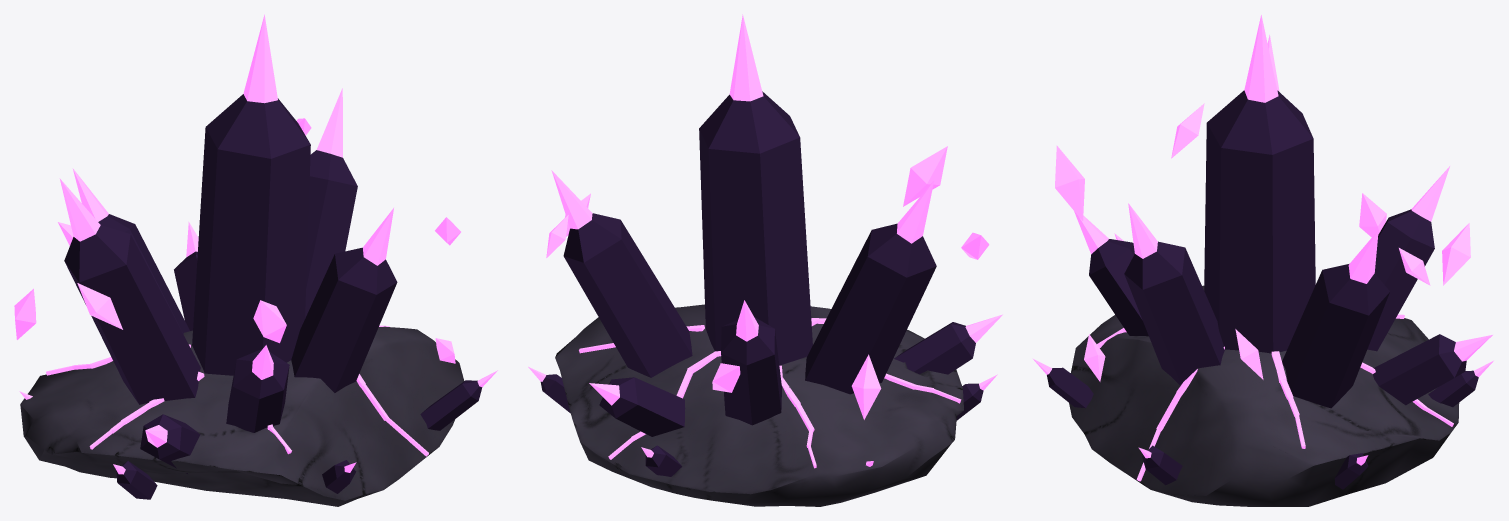
Rendered from Cristal_Abisal.fbx.
3 renders of one model, left to right at view 1: azimuth 30°, elevation 25°; view 2: azimuth 150°, elevation 25°; view 3: azimuth 270°, elevation 25°, orthographic. The views are drawn at different scales.
Visible parts, largest first — view 1: Cristal_Abisal_Cristales, Cristal_Abisal_Base, Cristal_Abisal_Brillo, Cristal_Abisal_Esquirlas; view 2: Cristal_Abisal_Cristales, Cristal_Abisal_Base, Cristal_Abisal_Brillo, Cristal_Abisal_Esquirlas; view 3: Cristal_Abisal_Cristales, Cristal_Abisal_Base, Cristal_Abisal_Brillo, Cristal_Abisal_Esquirlas.
Part boxes in pixels (x1=…): Cristal_Abisal_Cristales: x1=64, y1=94, x2=482, y2=499; Cristal_Abisal_Base: x1=20, y1=326, x2=464, y2=506; Cristal_Abisal_Brillo: x1=19, y1=14, x2=497, y2=474; Cristal_Abisal_Esquirlas: x1=14, y1=118, x2=460, y2=363; Cristal_Abisal_Cristales: x1=540, y1=91, x2=983, y2=476; Cristal_Abisal_Base: x1=555, y1=304, x2=963, y2=506; Cristal_Abisal_Brillo: x1=528, y1=14, x2=1002, y2=468; Cristal_Abisal_Esquirlas: x1=546, y1=146, x2=989, y2=419; Cristal_Abisal_Cristales: x1=1047, y1=90, x2=1478, y2=489; Cristal_Abisal_Base: x1=1069, y1=285, x2=1459, y2=506; Cristal_Abisal_Brillo: x1=1032, y1=15, x2=1493, y2=481; Cristal_Abisal_Esquirlas: x1=1055, y1=103, x2=1470, y2=381.
Bounding box in the file's own units: 2.08 × 2.12 × 2.07.
4 materials, 1 textured.
